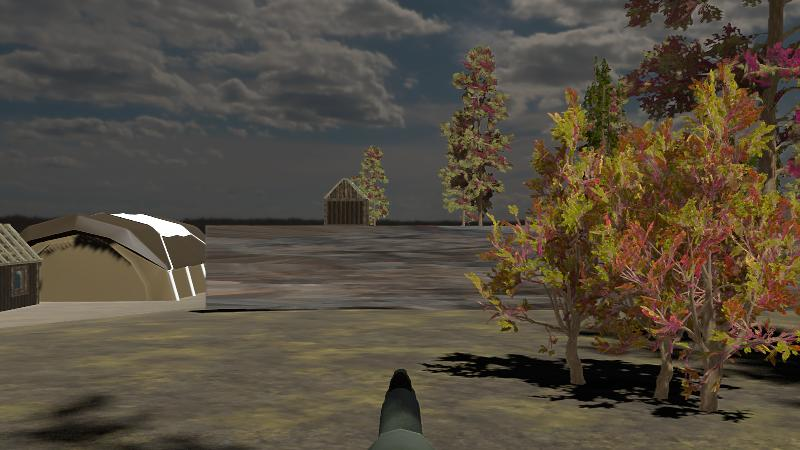House: (0, 215, 45, 323), (323, 176, 371, 230)
